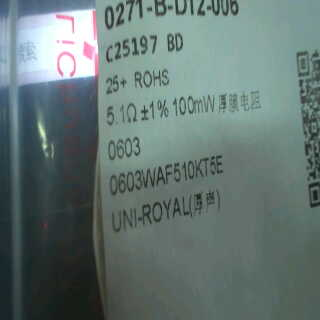5.1R: (102, 101, 141, 126)
